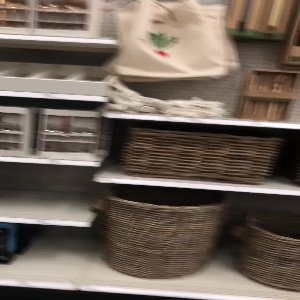void: (1, 163, 89, 221), (9, 226, 101, 281)
